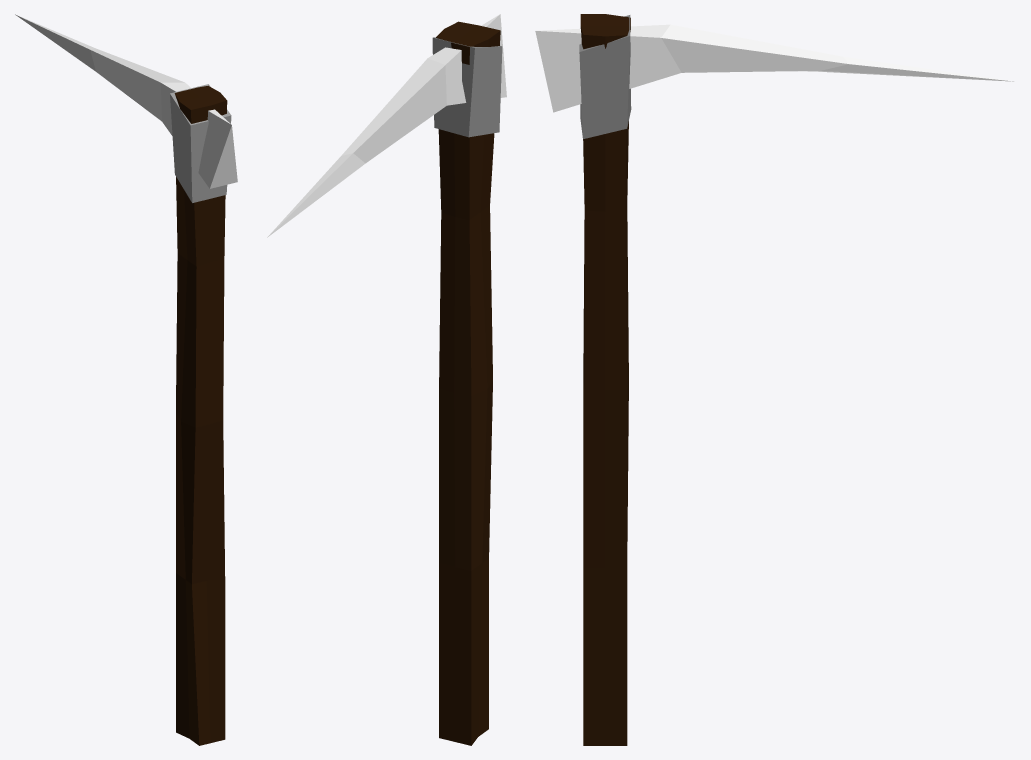
Rendered from bonePickaxe.fbx.
The picture shows the model from 3 angles, left to right: view 1: azimuth 30°, elevation 25°; view 2: azimuth 150°, elevation 25°; view 3: azimuth 270°, elevation 25°; orthographic projection. The views are drawn at different scales.
Visible parts, largest first — view 1: Cube, Куб, Куб.001; view 2: Cube, Куб, Куб.001; view 3: Cube, Куб, Куб.001.
Boxes of the visible parts, box(x1,y1,x2,y2) form: Cube: box(174, 85, 227, 745); Куб: box(15, 14, 237, 188); Куб.001: box(170, 84, 231, 202); Cube: box(436, 21, 500, 745); Куб: box(267, 14, 506, 237); Куб.001: box(432, 37, 502, 137); Cube: box(580, 14, 630, 745); Куб: box(535, 24, 1014, 112); Куб.001: box(579, 15, 631, 139).
Bounding box in the file's own units: 8.05 × 119 × 72.91.
